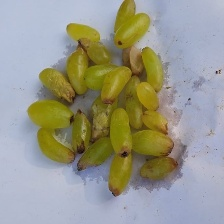grapes: (14, 52, 200, 208)
